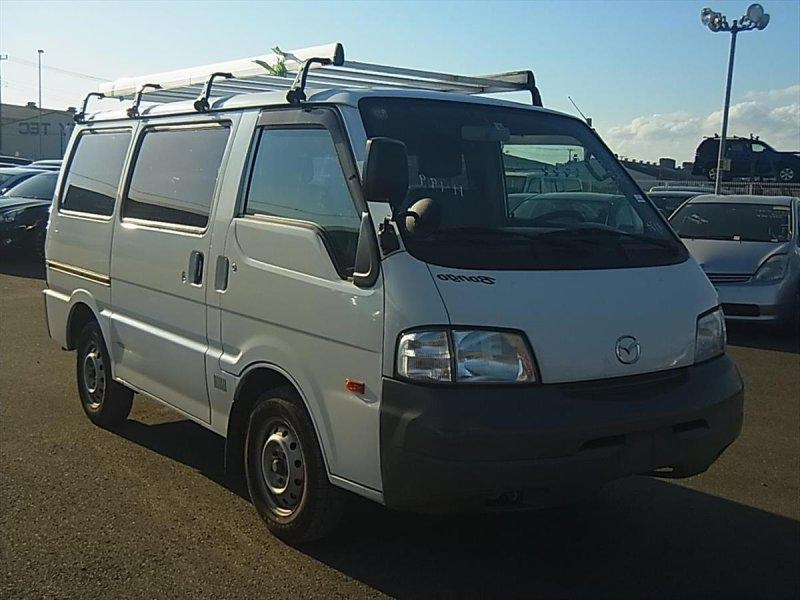van: (49, 60, 741, 533)
